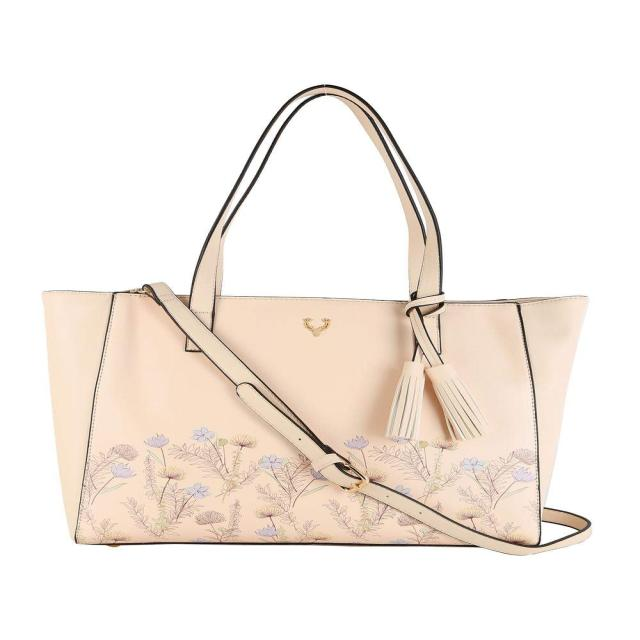handbag: (41, 84, 593, 554)
